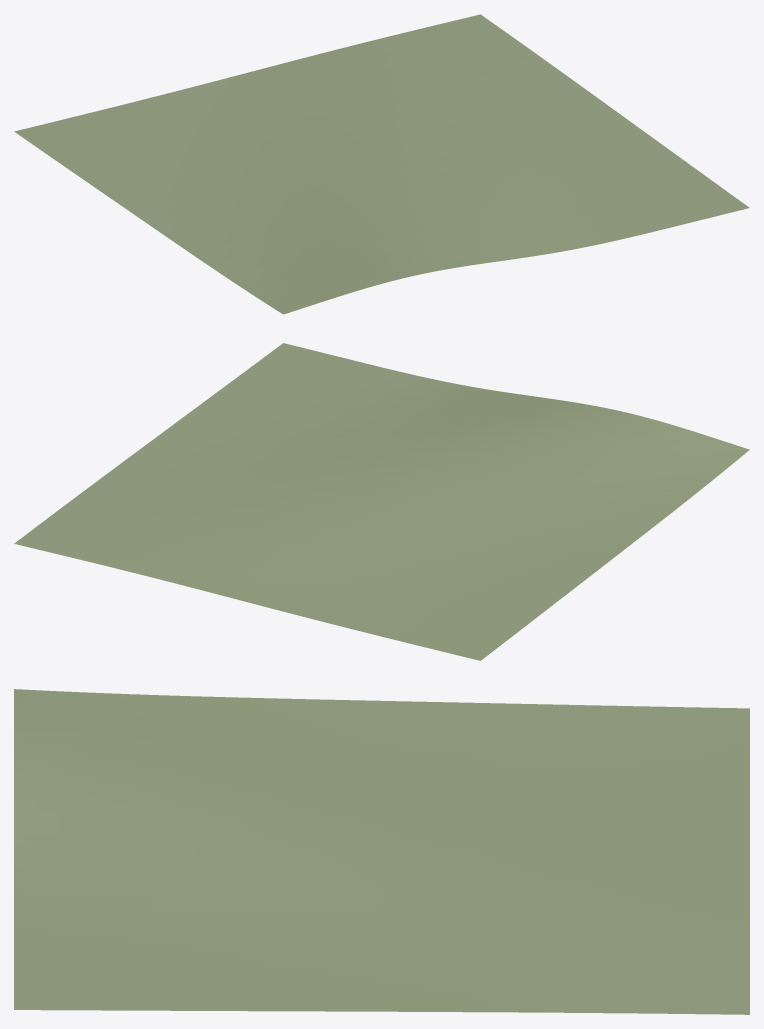
Rendered from desert-7-1.glb.
3 renders of one model, top to bottom at view 1: azimuth 30°, elevation 25°; view 2: azimuth 150°, elevation 25°; view 3: azimuth 270°, elevation 25°, orthographic. The views are drawn at different scales.
Parts seen in each view (by area): view 1: desert-7-1; view 2: desert-7-1; view 3: desert-7-1.
Part boxes in pixels (left/top/right/bottom): desert-7-1: left=14, top=14, right=749, bottom=314; desert-7-1: left=14, top=343, right=749, bottom=660; desert-7-1: left=14, top=689, right=749, bottom=1014.
Size of the model in its own units: 512 by 22.19 by 512.
